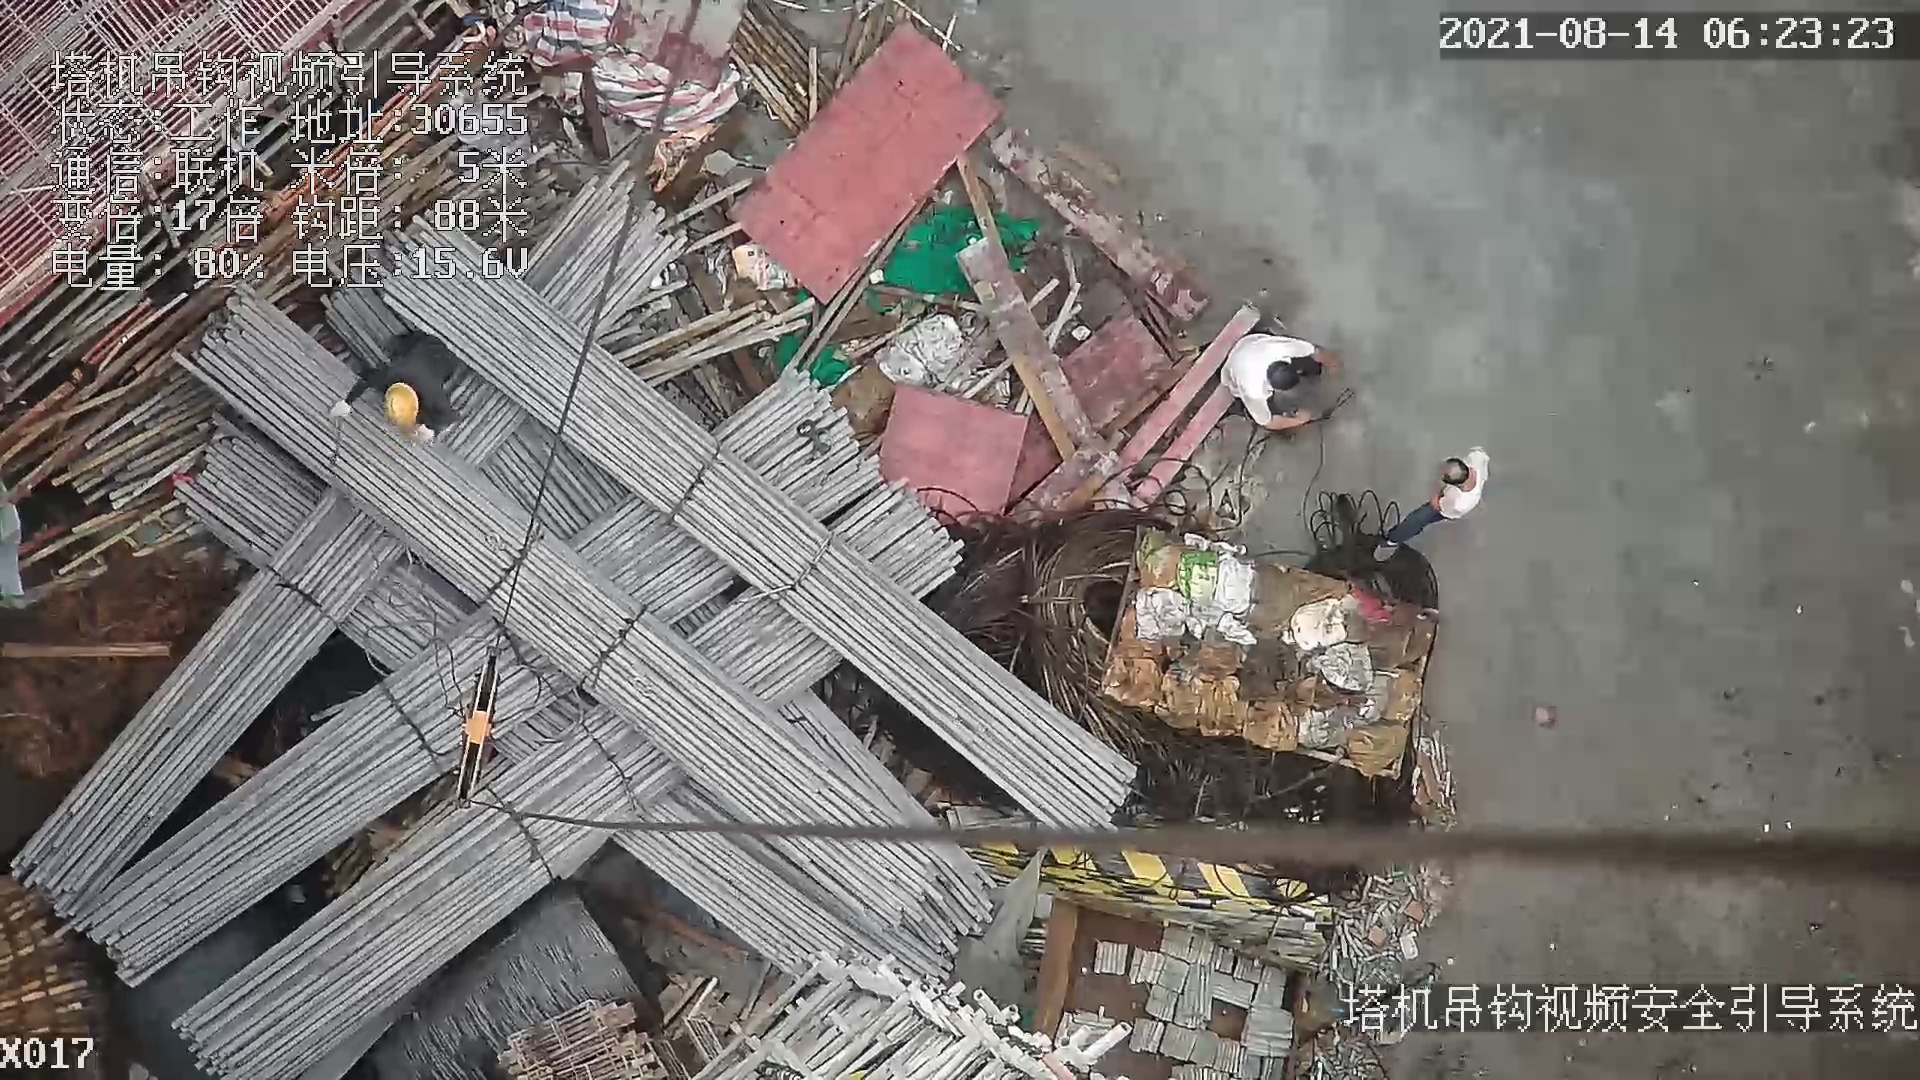helmet: (374, 371, 426, 433)
hook: (458, 642, 506, 819)
person: (331, 332, 464, 450), (1369, 442, 1495, 563), (1219, 326, 1341, 435)
